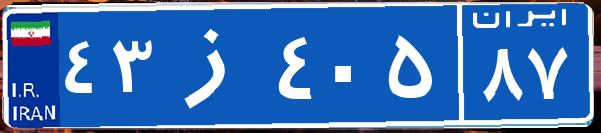0: (330, 28, 385, 110)
3: (110, 28, 158, 105)
4: (273, 28, 330, 110), (57, 26, 110, 107)
5: (385, 28, 445, 110)
7: (525, 38, 570, 115)
8: (475, 38, 525, 113)
ز: (158, 15, 273, 115)
